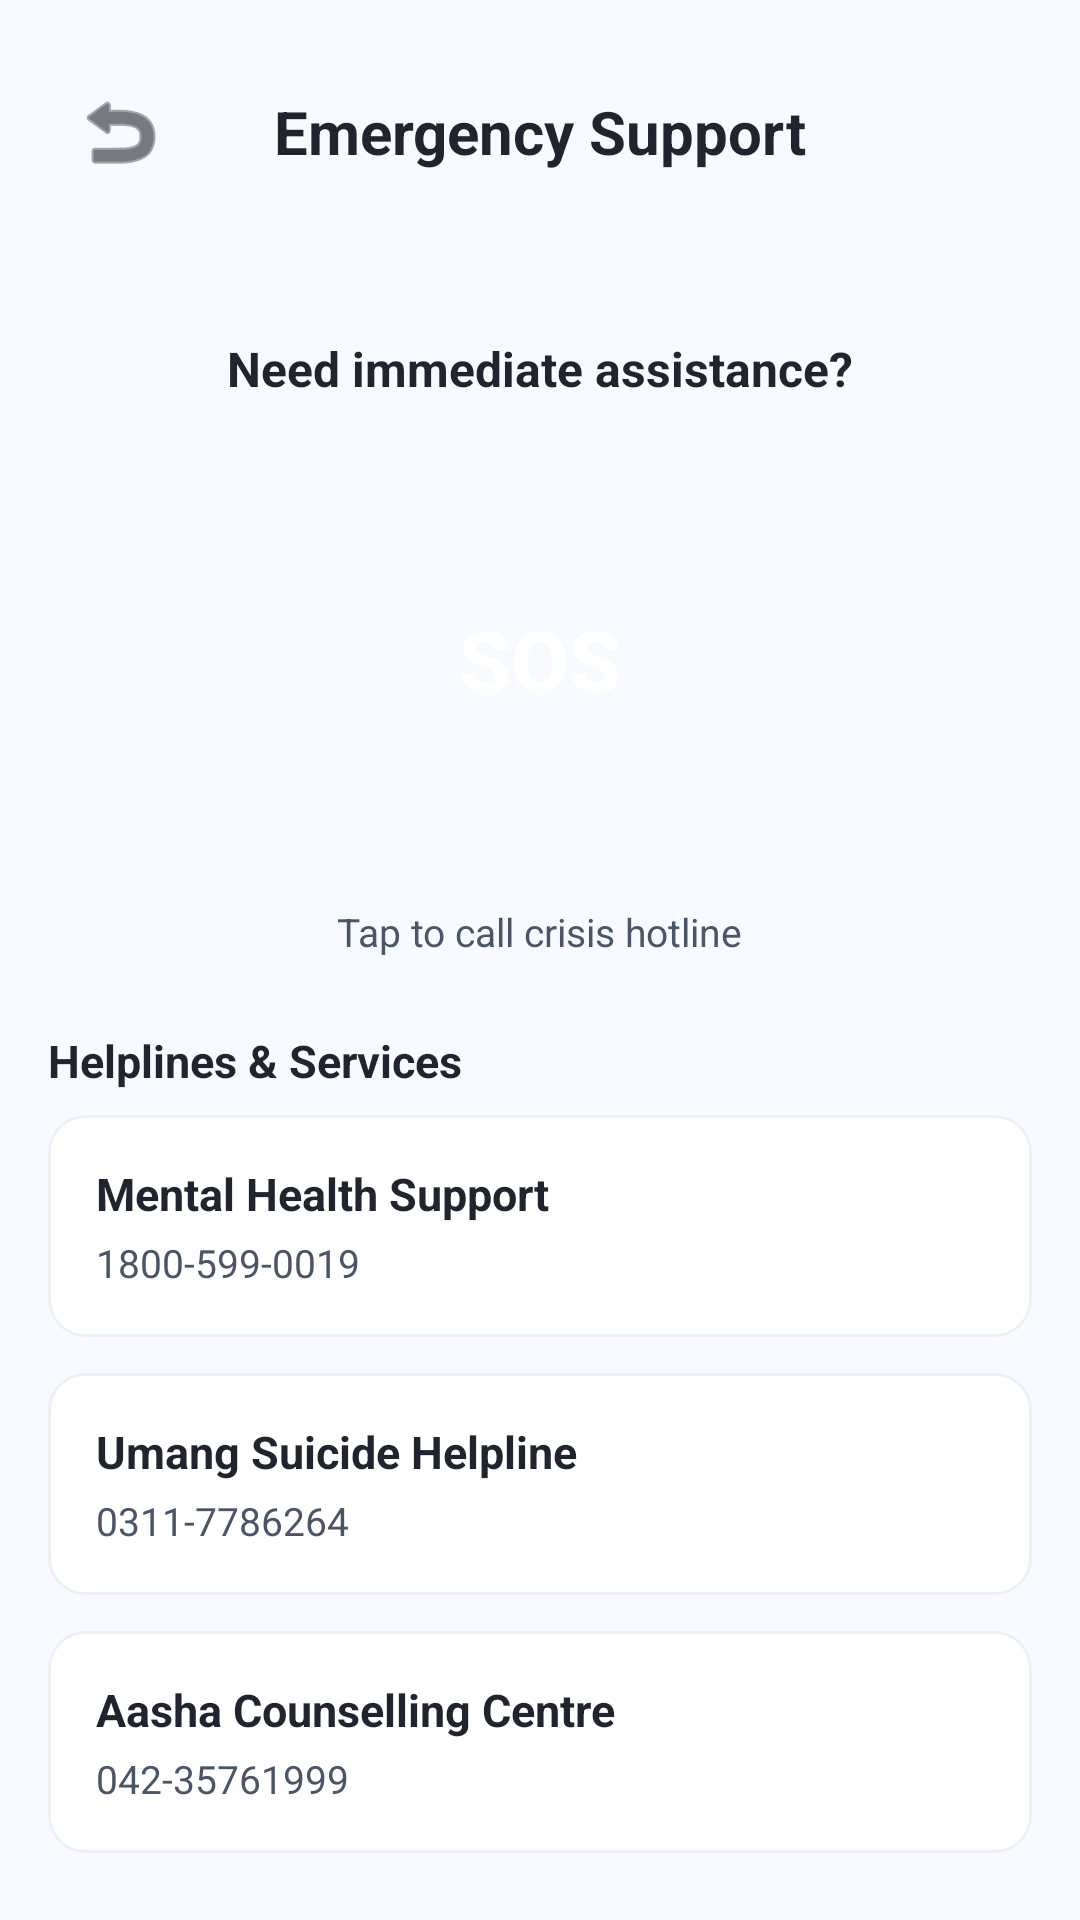

Icon bounding boxes for this 1080px×1920px phone screenshot, format (x1, y1, x2, y2):
Back: (87, 101, 156, 164)
